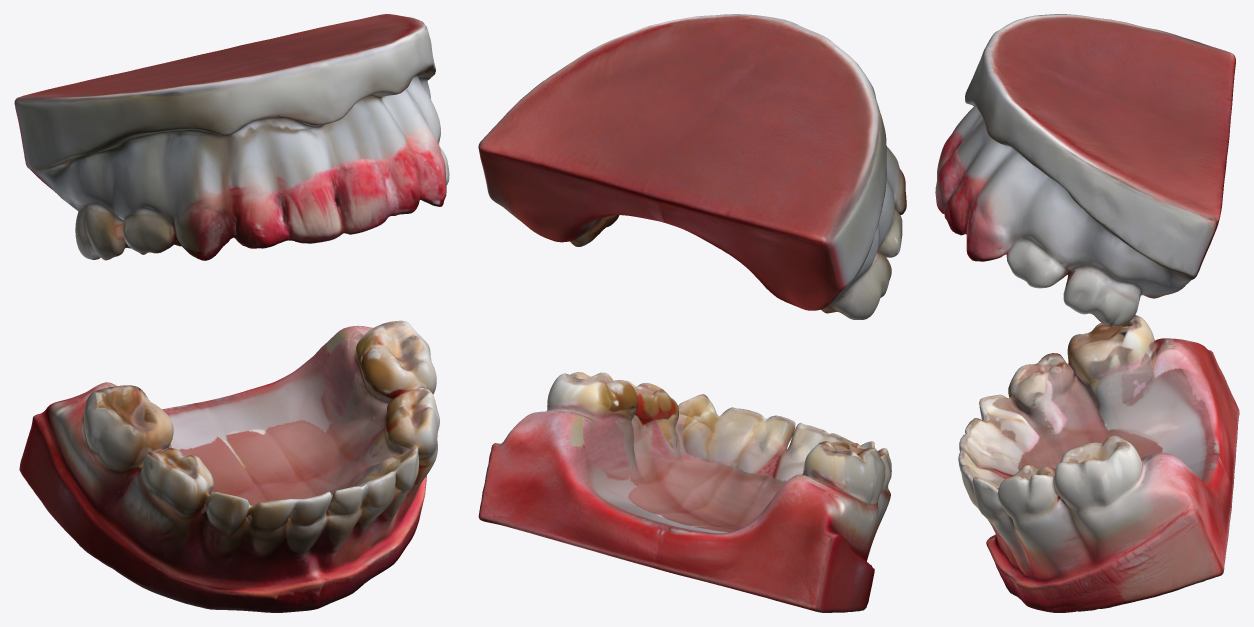
The picture shows the model from 3 angles, left to right: view 1: azimuth 30°, elevation 25°; view 2: azimuth 150°, elevation 25°; view 3: azimuth 270°, elevation 25°; orthographic projection. The views are drawn at different scales.
Bounding box in the file's own units: 1.4 × 2 × 1.05.
1 material, 1 textured.
